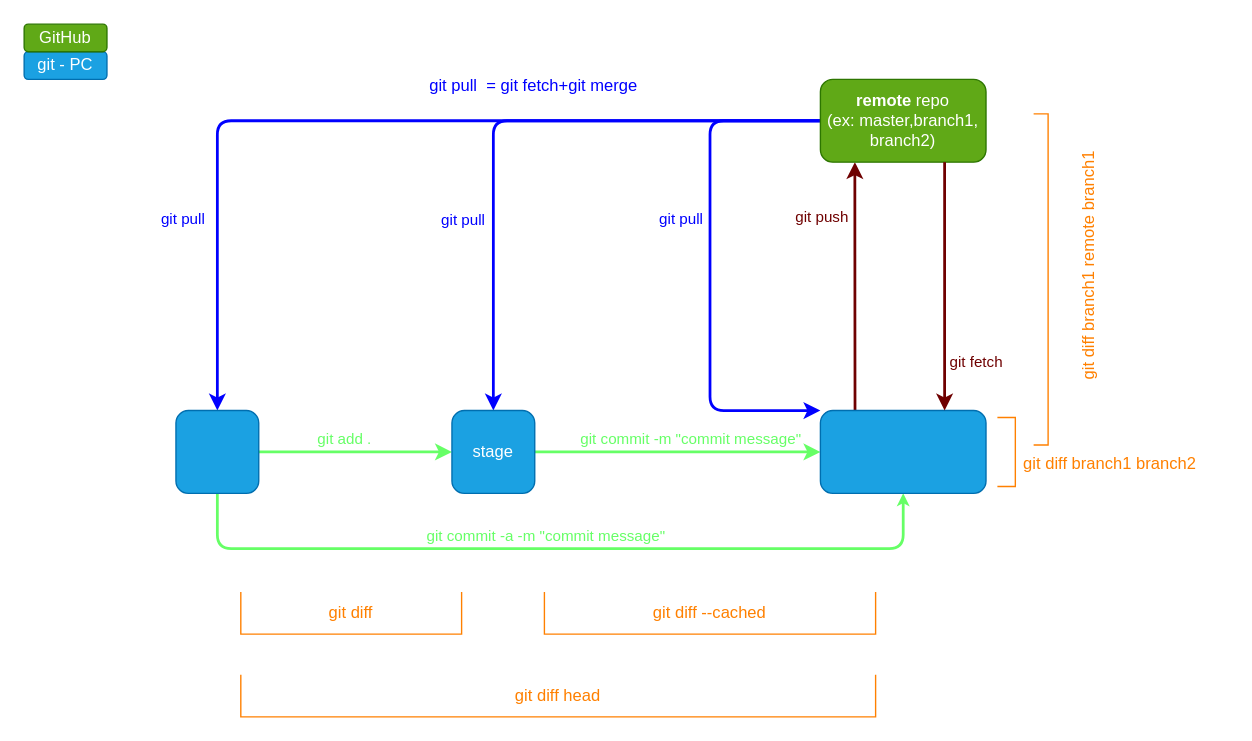
Some shapes in this 1252 by 741 pixel diagram are drawn without their labels. Here are the shapes that lost their labels. From the top down, the centre of each, then its label:
the point at 217,451: pwd
the point at 902,451: local repo (ex: master,branch1, branch2)
